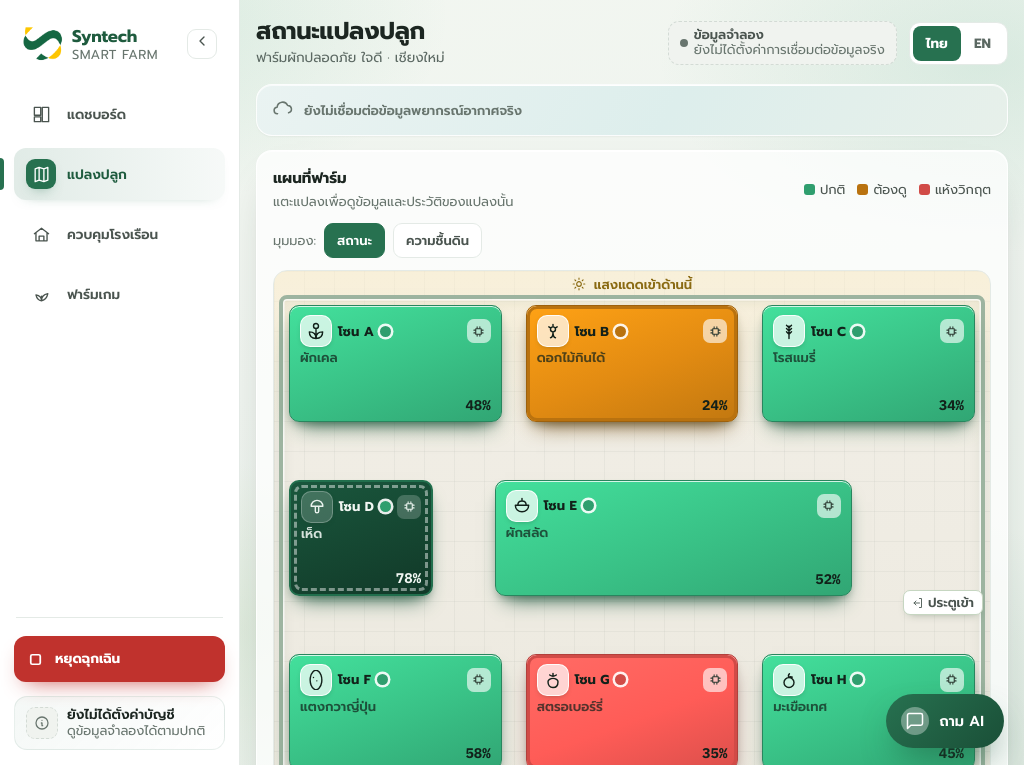
Test: สถานะเชื่อมกันข้ามหน้า › กด Emergency Stop จากแถบเมนู แล้วทุกหน้าถูกล็อกตาม
Click the button "หยุดฉุกเฉิน" at (120, 659), box [14,636,225,682]
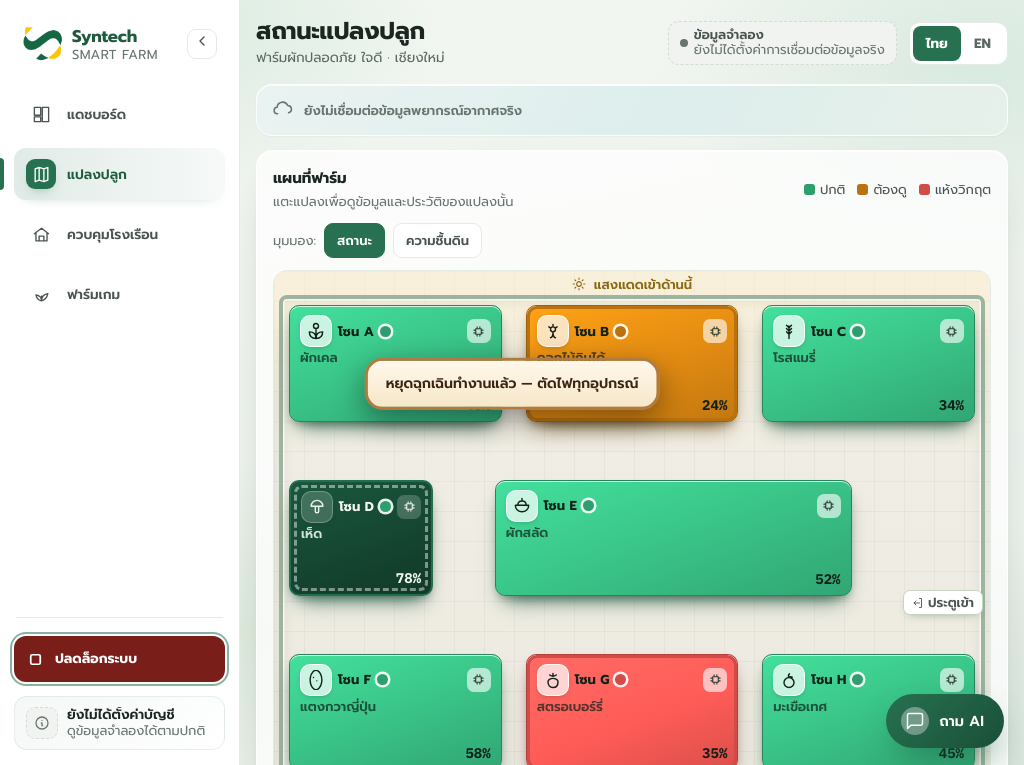
Click the button "ควบคุมโรงเรือน" at (120, 234), box [14,208,225,260]
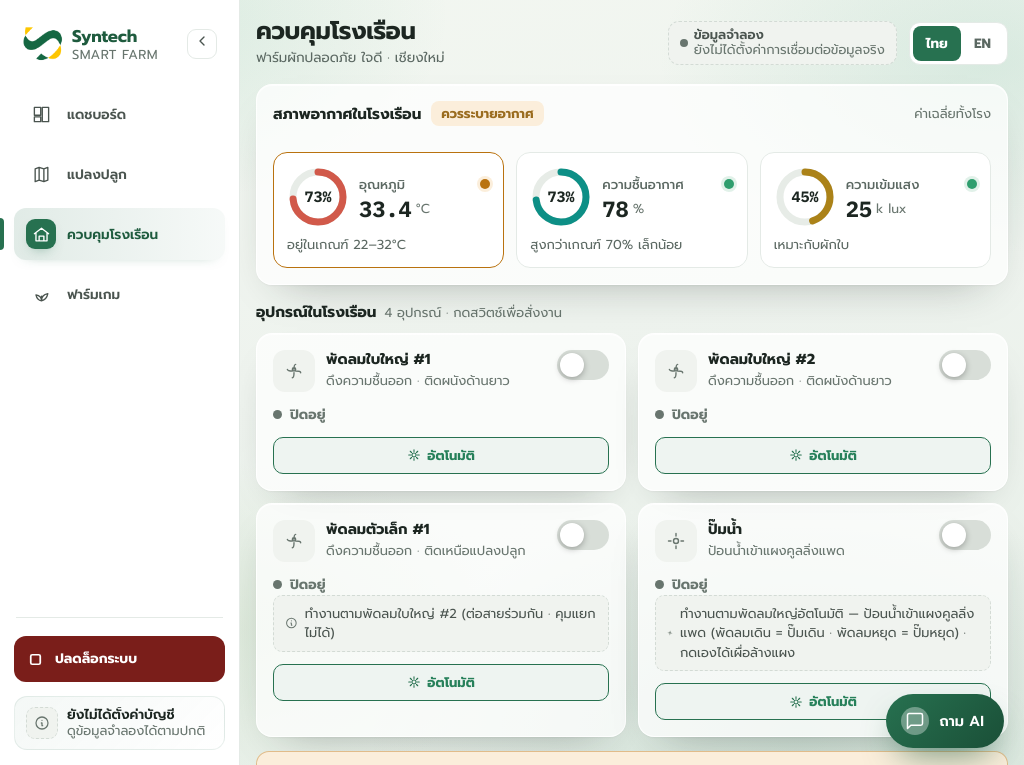
Expected: the heading "ควบคุมโรงเรือน" is shown, [256,13,416,49]
Expected: the number of buttons "ปลดล็อกระบบ" is 1, [14,636,225,682]
Click the button "แดชบอร์ด" at (120, 114), box [14,88,225,140]
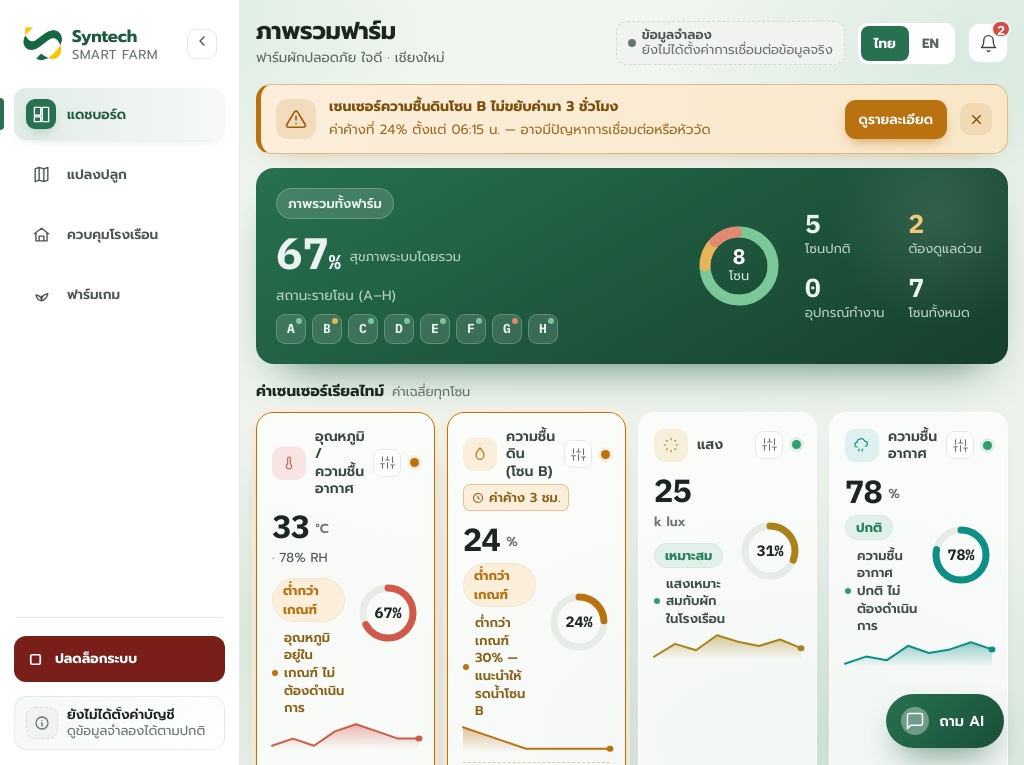
Expected: the button "ปลดล็อกระบบ" is shown, [14,636,225,682]
Expected: the heading "ภาพรวมฟาร์ม" is shown, [256,13,396,49]
